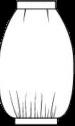Hemline: (14, 124, 56, 125)
Waistline: (15, 116, 57, 118), (15, 8, 56, 9), (16, 0, 55, 1)
